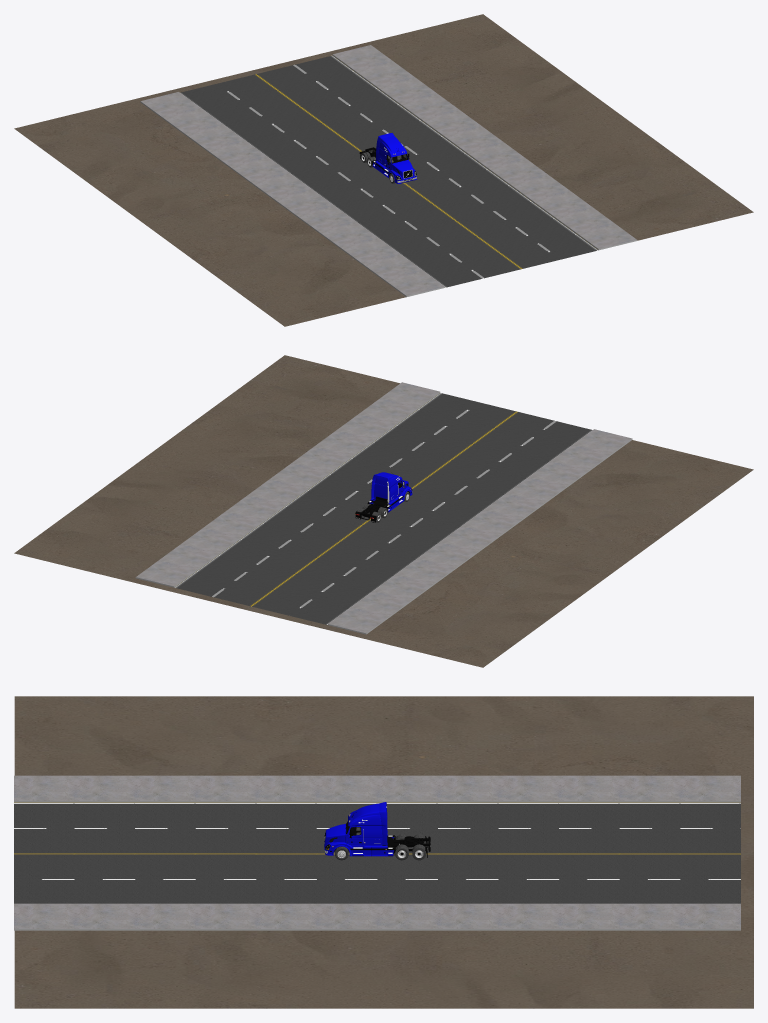
Rendered from volvo2_st3d00.gltf.
The picture shows the model from 3 angles, top to bottom: view 1: azimuth 30°, elevation 25°; view 2: azimuth 150°, elevation 25°; view 3: azimuth 270°, elevation 25°; orthographic projection. The views are drawn at different scales.
Parts seen in each view (by area): view 1: Plane001, BoulevardStraight006, body; view 2: Plane001, BoulevardStraight006, body; view 3: Plane001, BoulevardStraight006, body.
Boxes of the visible parts, <box> form: Plane001: <box>14,14,753,326</box>; BoulevardStraight006: <box>140,45,637,296</box>; body: <box>372,133,416,183</box>; Plane001: <box>14,355,753,667</box>; BoulevardStraight006: <box>135,382,632,634</box>; body: <box>369,472,412,512</box>; Plane001: <box>14,696,753,1008</box>; BoulevardStraight006: <box>14,775,740,930</box>; body: <box>324,802,393,856</box>.
Bounding box in the file's own units: 205 × 14.66 × 205.
